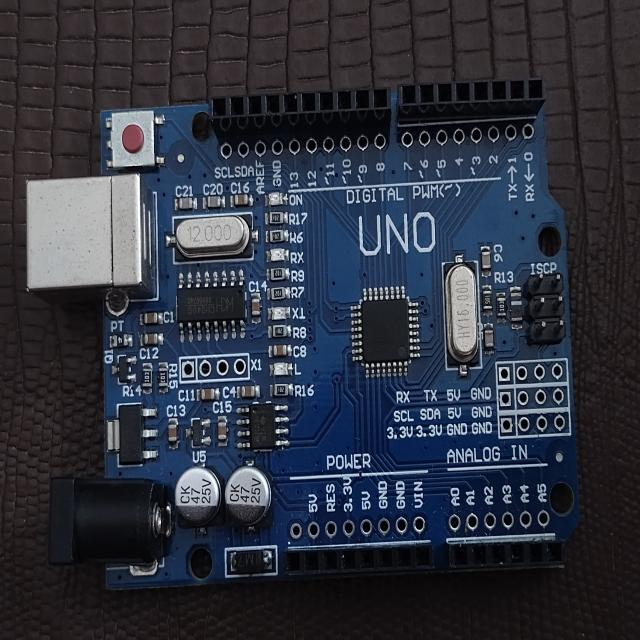arduino: (17, 65, 595, 590)
